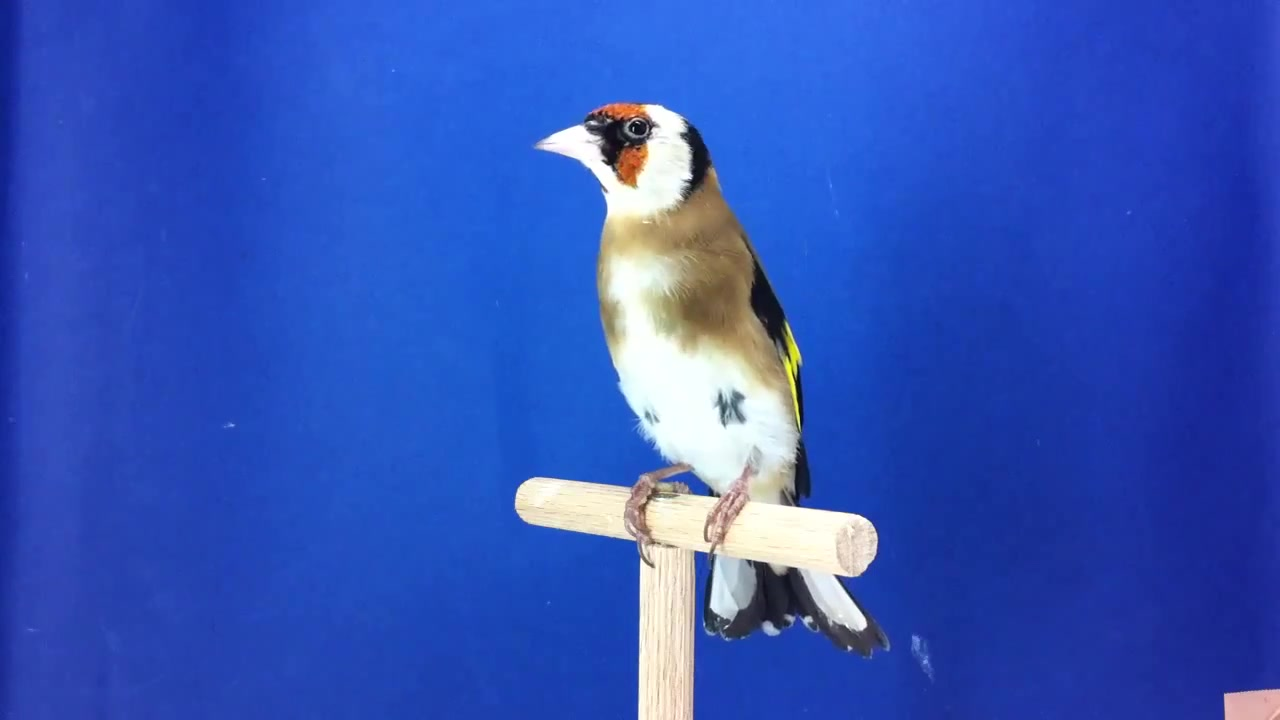bird: (533, 102, 892, 661)
